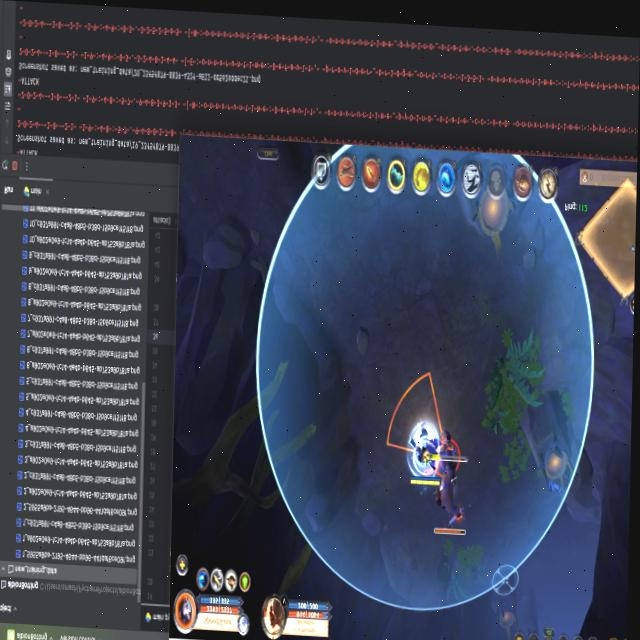ore: (422, 432, 470, 546)
red: (407, 422, 445, 490)
silver: (384, 366, 447, 463)
